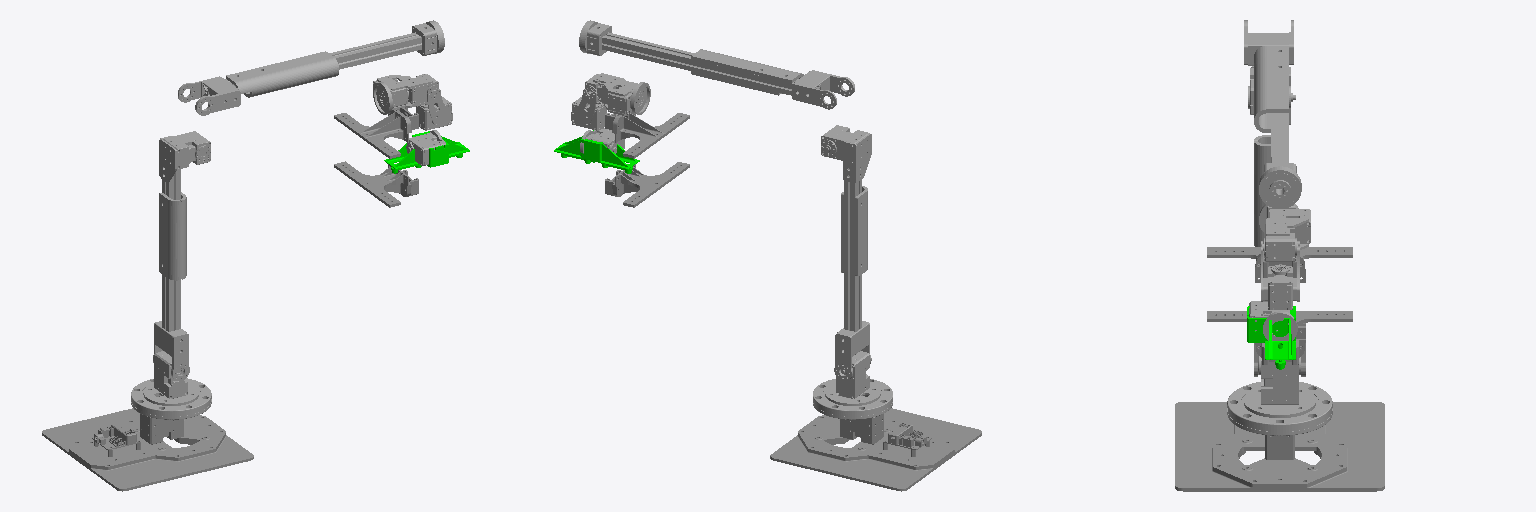
The robot description file, URDF, robot "0525_arm":
<?xml version="1.0" ?>
<robot name="0525_arm">

  <material name="silver_default">
    <color rgba="0.700 0.700 0.700 1.000"/>
  </material>
  <material name="steel_satin">
    <color rgba="0.6274509803921569 0.6274509803921569 0.6274509803921569 1.0"/>
  </material>
  <material name="opaque02550">
    <color rgba="0.0 1.0 0.0 1.0"/>
  </material>

  <transmission name="Revolute_1_tran">
    <type>transmission_interface/SimpleTransmission</type>
    <joint name="Revolute_1">
      <hardwareInterface>hardware_interface/EffortJointInterface</hardwareInterface>
    </joint>
    <actuator name="Revolute_1_actr">
      <hardwareInterface>hardware_interface/EffortJointInterface</hardwareInterface>
      <mechanicalReduction>1</mechanicalReduction>
    </actuator>
  </transmission>
  <transmission name="Revolute_2_tran">
    <type>transmission_interface/SimpleTransmission</type>
    <joint name="Revolute_2">
      <hardwareInterface>hardware_interface/EffortJointInterface</hardwareInterface>
    </joint>
    <actuator name="Revolute_2_actr">
      <hardwareInterface>hardware_interface/EffortJointInterface</hardwareInterface>
      <mechanicalReduction>1</mechanicalReduction>
    </actuator>
  </transmission>
  <transmission name="Revolute_3_tran">
    <type>transmission_interface/SimpleTransmission</type>
    <joint name="Revolute_3">
      <hardwareInterface>hardware_interface/EffortJointInterface</hardwareInterface>
    </joint>
    <actuator name="Revolute_3_actr">
      <hardwareInterface>hardware_interface/EffortJointInterface</hardwareInterface>
      <mechanicalReduction>1</mechanicalReduction>
    </actuator>
  </transmission>
  <transmission name="Revolute_4_tran">
    <type>transmission_interface/SimpleTransmission</type>
    <joint name="Revolute_4">
      <hardwareInterface>hardware_interface/EffortJointInterface</hardwareInterface>
    </joint>
    <actuator name="Revolute_4_actr">
      <hardwareInterface>hardware_interface/EffortJointInterface</hardwareInterface>
      <mechanicalReduction>1</mechanicalReduction>
    </actuator>
  </transmission>
  <transmission name="Revolute_5_tran">
    <type>transmission_interface/SimpleTransmission</type>
    <joint name="Revolute_5">
      <hardwareInterface>hardware_interface/EffortJointInterface</hardwareInterface>
    </joint>
    <actuator name="Revolute_5_actr">
      <hardwareInterface>hardware_interface/EffortJointInterface</hardwareInterface>
      <mechanicalReduction>1</mechanicalReduction>
    </actuator>
  </transmission>
  <transmission name="Revolute_6_tran">
    <type>transmission_interface/SimpleTransmission</type>
    <joint name="Revolute_6">
      <hardwareInterface>hardware_interface/EffortJointInterface</hardwareInterface>
    </joint>
    <actuator name="Revolute_6_actr">
      <hardwareInterface>hardware_interface/EffortJointInterface</hardwareInterface>
      <mechanicalReduction>1</mechanicalReduction>
    </actuator>
  </transmission>
  <transmission name="Slider_1_tran">
    <type>transmission_interface/SimpleTransmission</type>
    <joint name="Slider_1">
      <hardwareInterface>hardware_interface/EffortJointInterface</hardwareInterface>
    </joint>
    <actuator name="Slider_1_actr">
      <hardwareInterface>hardware_interface/EffortJointInterface</hardwareInterface>
      <mechanicalReduction>1</mechanicalReduction>
    </actuator>
  </transmission>
  <transmission name="Slider_2_tran">
    <type>transmission_interface/SimpleTransmission</type>
    <joint name="Slider_2">
      <hardwareInterface>hardware_interface/EffortJointInterface</hardwareInterface>
    </joint>
    <actuator name="Slider_2_actr">
      <hardwareInterface>hardware_interface/EffortJointInterface</hardwareInterface>
      <mechanicalReduction>1</mechanicalReduction>
    </actuator>
  </transmission>

  <link name="base_link">
    <inertial>
      <origin rpy="0 0 0" xyz="-0.040820856158369646 0.00036104809684655377 0.015213618835662102"/>
      <mass value="0.700086994811545"/>
      <inertia ixx="0.001733" ixy="1.7e-05" ixz="-2.5e-05" iyy="0.002626" iyz="-4e-06" izz="0.004024"/>
    </inertial>
    <visual>
      <origin rpy="0 0 0" xyz="0 0 0"/>
      <geometry>
        <mesh filename="package://0525_arm_description/meshes/base_link.stl" scale="0.001 0.001 0.001"/>
      </geometry>
      <material name="steel_satin"/>
    </visual>
    <collision>
      <origin rpy="0 0 0" xyz="0 0 0"/>
      <geometry>
        <mesh filename="package://0525_arm_description/meshes/base_link.stl" scale="0.001 0.001 0.001"/>
      </geometry>
    </collision>
  </link>
  <link name="link1_1">
    <inertial>
      <origin rpy="0 0 0" xyz="-0.00010633595242680766 0.00020725329457724903 0.02696631976786002"/>
      <mass value="0.28442007333799074"/>
      <inertia ixx="0.000333" ixy="0.0" ixz="-1e-06" iyy="0.000325" iyz="-2e-06" izz="0.000378"/>
    </inertial>
    <visual>
      <origin rpy="0 0 0" xyz="0.0 -0.0 -0.0555"/>
      <geometry>
        <mesh filename="package://0525_arm_description/meshes/link1_1.stl" scale="0.001 0.001 0.001"/>
      </geometry>
      <material name="silver_default"/>
    </visual>
    <collision>
      <origin rpy="0 0 0" xyz="0.0 -0.0 -0.0555"/>
      <geometry>
        <mesh filename="package://0525_arm_description/meshes/link1_1.stl" scale="0.001 0.001 0.001"/>
      </geometry>
    </collision>
  </link>
  <link name="link2_1">
    <inertial>
      <origin rpy="0 0 0" xyz="0.00637292515398388 -0.031033732131428293 0.2266539332199798"/>
      <mass value="1.9808964170638441"/>
      <inertia ixx="0.030156" ixy="6e-05" ixz="-0.001568" iyy="0.030203" iyz="0.000907" izz="0.000908"/>
    </inertial>
    <visual>
      <origin rpy="0 0 0" xyz="3.7e-05 -0.024464 -0.12355"/>
      <geometry>
        <mesh filename="package://0525_arm_description/meshes/link2_1.stl" scale="0.001 0.001 0.001"/>
      </geometry>
      <material name="silver_default"/>
    </visual>
    <collision>
      <origin rpy="0 0 0" xyz="3.7e-05 -0.024464 -0.12355"/>
      <geometry>
        <mesh filename="package://0525_arm_description/meshes/link2_1.stl" scale="0.001 0.001 0.001"/>
      </geometry>
    </collision>
  </link>
  <link name="link3_1">
    <inertial>
      <origin rpy="0 0 0" xyz="0.16381077990224677 0.02885444035638012 0.0001998411564803071"/>
      <mass value="1.595534741397531"/>
      <inertia ixx="0.000496" ixy="-0.00082" ixz="4e-05" iyy="0.016604" iyz="1e-06" izz="0.016792"/>
    </inertial>
    <visual>
      <origin rpy="0 0 0" xyz="-0.034868 0.036505 -0.4753"/>
      <geometry>
        <mesh filename="package://0525_arm_description/meshes/link3_1.stl" scale="0.001 0.001 0.001"/>
      </geometry>
      <material name="silver_default"/>
    </visual>
    <collision>
      <origin rpy="0 0 0" xyz="-0.034868 0.036505 -0.4753"/>
      <geometry>
        <mesh filename="package://0525_arm_description/meshes/link3_1.stl" scale="0.001 0.001 0.001"/>
      </geometry>
    </collision>
  </link>
  <link name="link4_1">
    <inertial>
      <origin rpy="0 0 0" xyz="0.04210024944627366 0.005170122132596722 -1.2073697515102566e-06"/>
      <mass value="0.828744250174943"/>
      <inertia ixx="0.00023" ixy="9.5e-05" ixz="-0.0" iyy="0.000619" iyz="0.0" izz="0.000688"/>
    </inertial>
    <visual>
      <origin rpy="0 0 0" xyz="-0.360435 -0.000288 -0.4752"/>
      <geometry>
        <mesh filename="package://0525_arm_description/meshes/link4_1.stl" scale="0.001 0.001 0.001"/>
      </geometry>
      <material name="silver_default"/>
    </visual>
    <collision>
      <origin rpy="0 0 0" xyz="-0.360435 -0.000288 -0.4752"/>
      <geometry>
        <mesh filename="package://0525_arm_description/meshes/link4_1.stl" scale="0.001 0.001 0.001"/>
      </geometry>
    </collision>
  </link>
  <link name="link5_1">
    <inertial>
      <origin rpy="0 0 0" xyz="0.04429399783850041 -0.0185328285303192 0.011633483161794023"/>
      <mass value="0.14912306056799499"/>
      <inertia ixx="4.4e-05" ixy="1e-06" ixz="-3e-06" iyy="4.6e-05" iyz="0.0" izz="4.1e-05"/>
    </inertial>
    <visual>
      <origin rpy="0 0 0" xyz="-0.439118 -0.019359 -0.4752"/>
      <geometry>
        <mesh filename="package://0525_arm_description/meshes/link5_1.stl" scale="0.001 0.001 0.001"/>
      </geometry>
      <material name="silver_default"/>
    </visual>
    <collision>
      <origin rpy="0 0 0" xyz="-0.439118 -0.019359 -0.4752"/>
      <geometry>
        <mesh filename="package://0525_arm_description/meshes/link5_1.stl" scale="0.001 0.001 0.001"/>
      </geometry>
    </collision>
  </link>
  <link name="link6_1">
    <inertial>
      <origin rpy="0 0 0" xyz="0.021371181918969362 -0.0110541257671988 1.700855828679071e-06"/>
      <mass value="0.4351295137369132"/>
      <inertia ixx="0.000113" ixy="6e-06" ixz="0.0" iyy="0.000105" iyz="-0.0" izz="0.000158"/>
    </inertial>
    <visual>
      <origin rpy="0 0 0" xyz="-0.503935 -0.000517 -0.4752"/>
      <geometry>
        <mesh filename="package://0525_arm_description/meshes/link6_1.stl" scale="0.001 0.001 0.001"/>
      </geometry>
      <material name="silver_default"/>
    </visual>
    <collision>
      <origin rpy="0 0 0" xyz="-0.503935 -0.000517 -0.4752"/>
      <geometry>
        <mesh filename="package://0525_arm_description/meshes/link6_1.stl" scale="0.001 0.001 0.001"/>
      </geometry>
    </collision>
  </link>
  <link name="EndEffector_1">
    <inertial>
      <origin rpy="0 0 0" xyz="-0.004885954407517601 -0.0036198984293666116 4.046185011813419e-05"/>
      <mass value="0.2999455316821665"/>
      <inertia ixx="0.000277" ixy="-2e-06" ixz="0.0" iyy="0.000236" iyz="-0.0" izz="0.000109"/>
    </inertial>
    <visual>
      <origin rpy="0 0 0" xyz="-0.548935 -0.000557 -0.47515"/>
      <geometry>
        <mesh filename="package://0525_arm_description/meshes/EndEffector_1.stl" scale="0.001 0.001 0.001"/>
      </geometry>
      <material name="opaque02550"/>
    </visual>
    <collision>
      <origin rpy="0 0 0" xyz="-0.548935 -0.000557 -0.47515"/>
      <geometry>
        <mesh filename="package://0525_arm_description/meshes/EndEffector_1.stl" scale="0.001 0.001 0.001"/>
      </geometry>
    </collision>
  </link>
  <link name="left_finger_1">
    <inertial>
      <origin rpy="0 0 0" xyz="0.03403901633983453 -6.823868918867074e-06 0.010602891865212738"/>
      <mass value="0.3076181632680406"/>
      <inertia ixx="0.000321" ixy="0.0" ixz="-3.9e-05" iyy="0.000254" iyz="-0.0" izz="0.000538"/>
    </inertial>
    <visual>
      <origin rpy="0 0 0" xyz="-0.556935 -0.000541 -0.42015"/>
      <geometry>
        <mesh filename="package://0525_arm_description/meshes/left_finger_1.stl" scale="0.001 0.001 0.001"/>
      </geometry>
      <material name="steel_satin"/>
    </visual>
    <collision>
      <origin rpy="0 0 0" xyz="-0.556935 -0.000541 -0.42015"/>
      <geometry>
        <mesh filename="package://0525_arm_description/meshes/left_finger_1.stl" scale="0.001 0.001 0.001"/>
      </geometry>
    </collision>
  </link>
  <link name="right_finger_1">
    <inertial>
      <origin rpy="0 0 0" xyz="0.03403959186151451 -6.4562398618145e-06 -0.010601306968202273"/>
      <mass value="0.3076182712077128"/>
      <inertia ixx="0.000321" ixy="0.0" ixz="3.9e-05" iyy="0.000254" iyz="-0.0" izz="0.000538"/>
    </inertial>
    <visual>
      <origin rpy="0 0 0" xyz="-0.556934 -0.000587 -0.53015"/>
      <geometry>
        <mesh filename="package://0525_arm_description/meshes/right_finger_1.stl" scale="0.001 0.001 0.001"/>
      </geometry>
      <material name="steel_satin"/>
    </visual>
    <collision>
      <origin rpy="0 0 0" xyz="-0.556934 -0.000587 -0.53015"/>
      <geometry>
        <mesh filename="package://0525_arm_description/meshes/right_finger_1.stl" scale="0.001 0.001 0.001"/>
      </geometry>
    </collision>
  </link>
  
  <ros2_control name="RobotHardware" type="system">
    <hardware>
      <plugin>mock_components/GenericSystem</plugin>
    </hardware>
    <joint name="Revolute_1">
      <command_interface name="position"/>
      <state_interface name="position"/>
      <state_interface name="velocity"/>
    </joint>
    <joint name="Revolute_2">
      <command_interface name="position"/>
      <state_interface name="position"/>
      <state_interface name="velocity"/>
    </joint>
    <joint name="Revolute_3">
      <command_interface name="position"/>
      <state_interface name="position"/>
      <state_interface name="velocity"/>
    </joint>
    <joint name="Revolute_4">
      <command_interface name="position"/>
      <state_interface name="position"/>
      <state_interface name="velocity"/>
    </joint>
    <joint name="Revolute_5">
      <command_interface name="position"/>
      <state_interface name="position"/>
      <state_interface name="velocity"/>
    </joint>
    <joint name="Revolute_6">
      <command_interface name="position"/>
      <state_interface name="position"/>
      <state_interface name="velocity"/>
    </joint>
    <joint name="Slider_1">
      <command_interface name="position"/>
      <state_interface name="position"/>
      <state_interface name="velocity"/>
    </joint>
    <joint name="Slider_2">
      <command_interface name="position"/>
      <state_interface name="position"/>
      <state_interface name="velocity"/>
    </joint>
  </ros2_control>

  <joint name="Revolute_1" type="continuous">
    <origin rpy="0 0 0" xyz="0.0 0.0 0.0555"/>
    <parent link="base_link"/>
    <child link="link1_1"/>
    <axis xyz="-0.0 0.0 1.0"/>
  </joint>
  <joint name="Revolute_2" type="continuous">
    <origin rpy="0 0 0" xyz="-3.7e-05 0.024464 0.06805"/>
    <parent link="link1_1"/>
    <child link="link2_1"/>
    <axis xyz="-0.000898 1.0 -0.0"/>
  </joint>
  <joint name="Revolute_3" type="continuous">
    <origin rpy="0 0 0" xyz="0.034905 -0.060969 0.35175"/>
    <parent link="link2_1"/>
    <child link="link3_1"/>
    <axis xyz="0.000898 -1.0 -0.0"/>
  </joint>
  <joint name="Revolute_4" type="continuous">
    <origin rpy="0 0 0" xyz="0.325567 0.036793 -0.0001"/>
    <parent link="link3_1"/>
    <child link="link4_1"/>
    <axis xyz="1.0 0.000898 0.0"/>
  </joint>
  <joint name="Revolute_5" type="continuous">
    <origin rpy="0 1.57 0" xyz="0.078683 0.019071 0.0"/>
    <parent link="link4_1"/>
    <child link="link5_1"/>
    <axis xyz="-0.000898 1.0 0.0"/>
  </joint>
  <joint name="Revolute_6" type="continuous">
    <origin rpy="0 0 0" xyz="0.064817 -0.018842 0.0"/>
    <parent link="link5_1"/>
    <child link="link6_1"/>
    <axis xyz="1.0 0.000898 0.0"/>
  </joint>
  <joint name="Rigid_7" type="fixed">
    <origin rpy="0 0 0" xyz="0.045 4e-05 -5e-05"/>
    <parent link="link6_1"/>
    <child link="EndEffector_1"/>
  </joint>
  <joint name="Slider_1" type="prismatic">
    <origin rpy="0 0 0" xyz="0.007999 3e-05 0.055"/>
    <parent link="EndEffector_1"/>
    <child link="right_finger_1"/>
    <axis xyz="0.0 0.0 -1.0"/>
    <limit effort="100" lower="0.0" upper="0.024" velocity="100"/>
  </joint>
  <joint name="Slider_2" type="prismatic">
    <origin rpy="0 0 0" xyz="0.008 -1.6e-05 -0.055"/>
    <parent link="EndEffector_1"/>
    <child link="left_finger_1"/>
    <axis xyz="0.0 0.0 -1.0"/>
    <limit effort="100" lower="-0.024" upper="0.0" velocity="100"/>
    <mimic joint="Slider_1" multiplier="-1.0" offset="0.0"/>
  </joint>
</robot>

--- What the picture shows (computed from the rendered views, not written in the file) ---
The picture shows the robot from 3 angles, left to right: view 1: azimuth 30°, elevation 25°; view 2: azimuth 150°, elevation 25°; view 3: azimuth 270°, elevation 25°; orthographic projection.
Robot: 0525_arm — 10 links, 9 joints (6 continuous, 2 prismatic, 1 fixed); root link base_link; default pose: every joint at zero.
Links seen in each view (by area): view 1: base_link, link3_1, link2_1, link1_1, link4_1, left_finger_1, right_finger_1, EndEffector_1, link5_1, link6_1; view 2: base_link, link3_1, link2_1, link1_1, link4_1, left_finger_1, right_finger_1, EndEffector_1, link5_1, link6_1; view 3: base_link, link3_1, link1_1, link4_1, link2_1, left_finger_1, link5_1, right_finger_1, EndEffector_1, link6_1.
Link boxes in pixels (<box>): base_link: <box>42,408,253,491</box>; link3_1: <box>178,20,444,115</box>; link2_1: <box>153,131,210,380</box>; link1_1: <box>131,351,211,419</box>; link4_1: <box>373,74,438,114</box>; left_finger_1: <box>334,107,418,158</box>; right_finger_1: <box>334,161,418,207</box>; EndEffector_1: <box>384,131,469,173</box>; link5_1: <box>416,89,452,130</box>; link6_1: <box>406,130,445,165</box>; base_link: <box>770,408,981,491</box>; link3_1: <box>579,20,854,109</box>; link2_1: <box>821,125,871,380</box>; link1_1: <box>813,351,892,419</box>; link4_1: <box>585,73,650,115</box>; left_finger_1: <box>605,113,689,158</box>; right_finger_1: <box>605,162,689,207</box>; EndEffector_1: <box>554,130,639,173</box>; link5_1: <box>571,89,606,130</box>; link6_1: <box>580,128,624,153</box>; base_link: <box>1175,402,1384,491</box>; link3_1: <box>1244,20,1301,208</box>; link1_1: <box>1227,355,1332,435</box>; link4_1: <box>1259,204,1310,261</box>; link2_1: <box>1248,66,1305,376</box>; left_finger_1: <box>1207,247,1352,282</box>; link5_1: <box>1261,241,1299,309</box>; right_finger_1: <box>1207,311,1352,364</box>; EndEffector_1: <box>1247,306,1295,369</box>; link6_1: <box>1249,301,1297,340</box>.
Size in the robot's own frame: 0.6605 by 0.24 by 0.5807 metres.
10 mesh visuals loaded from 10 distinct referenced files (10 binary STL).